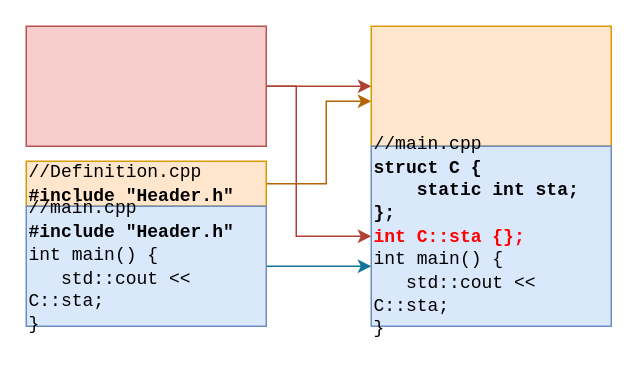
Image size: 638x366. Some labels were removed from this diagram. Here are the shapes that lost their labels. From the top down, the centre of each, then its label:
At (145,85): "//Header.h struct C { static int sta; }; int C::sta {};".
At (490,85): "//Definition.cpp struct C { static int sta; }; int C::sta {};".
